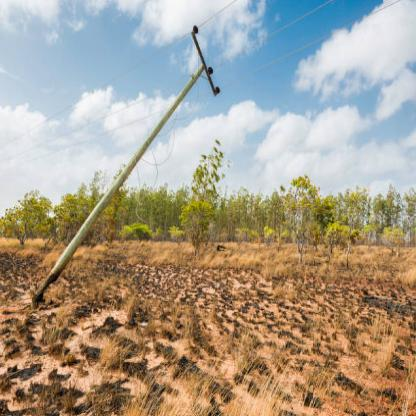Electrical Pole: (20, 18, 227, 324)
